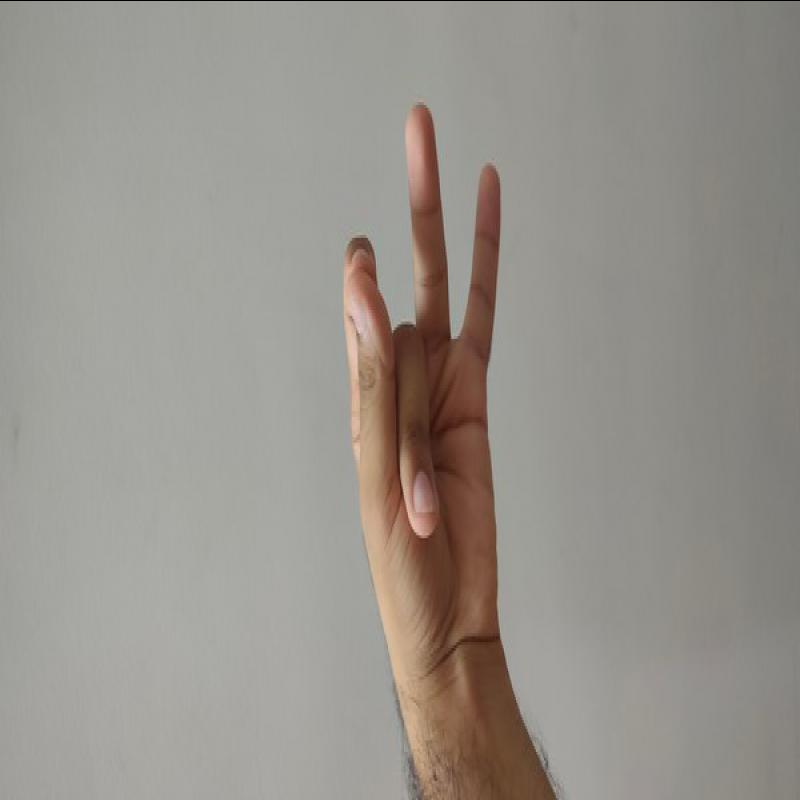Katakam: (302, 88, 524, 737)
